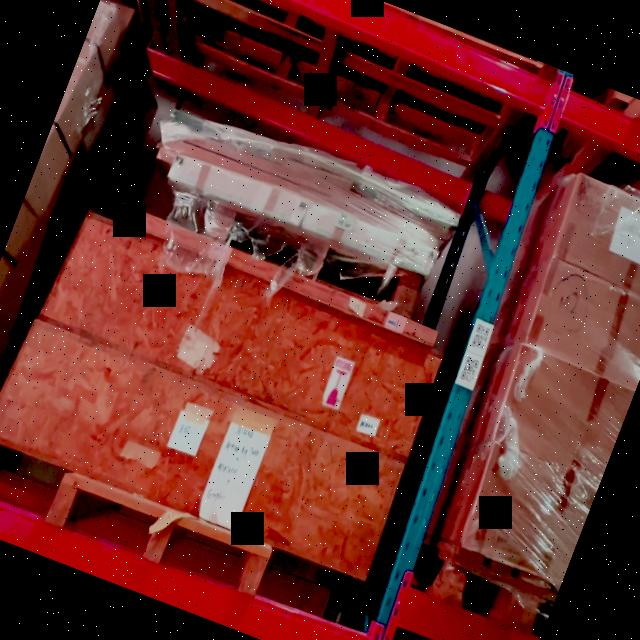box: (0, 319, 405, 576), (50, 217, 445, 450)
